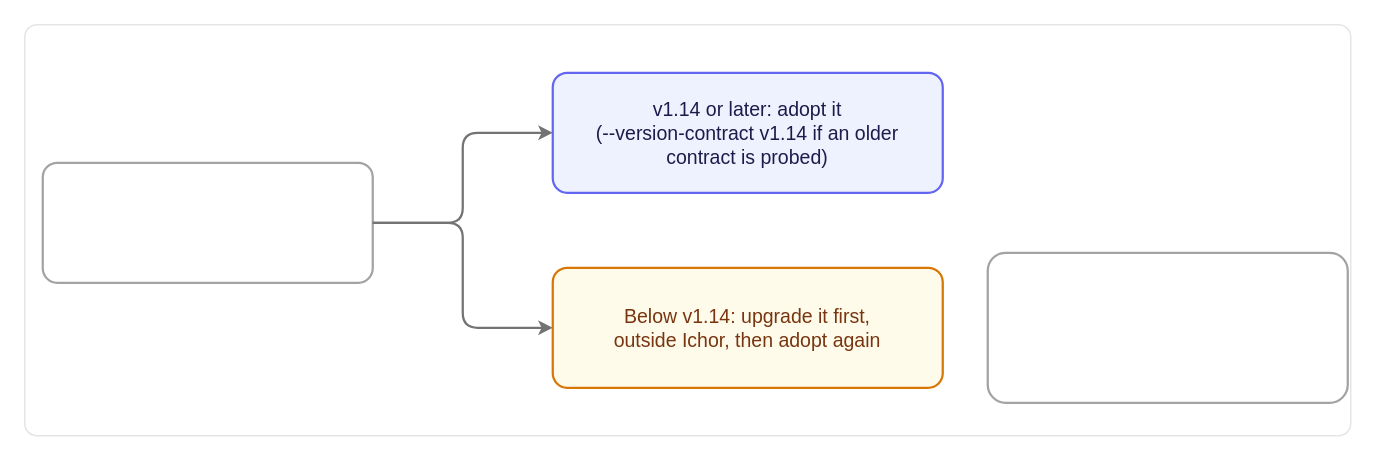
Some shapes in this 1376 by 461 pixel diagram are drawn without their labels. Here are the shapes that lost their labels. From the top down, the centre of each, then its label:
point (207, 222): The first control plane's Talos (the contract is probed there)
point (1167, 327): Adding a node with --add-machine to an adopted cluster: v1.12 or later
